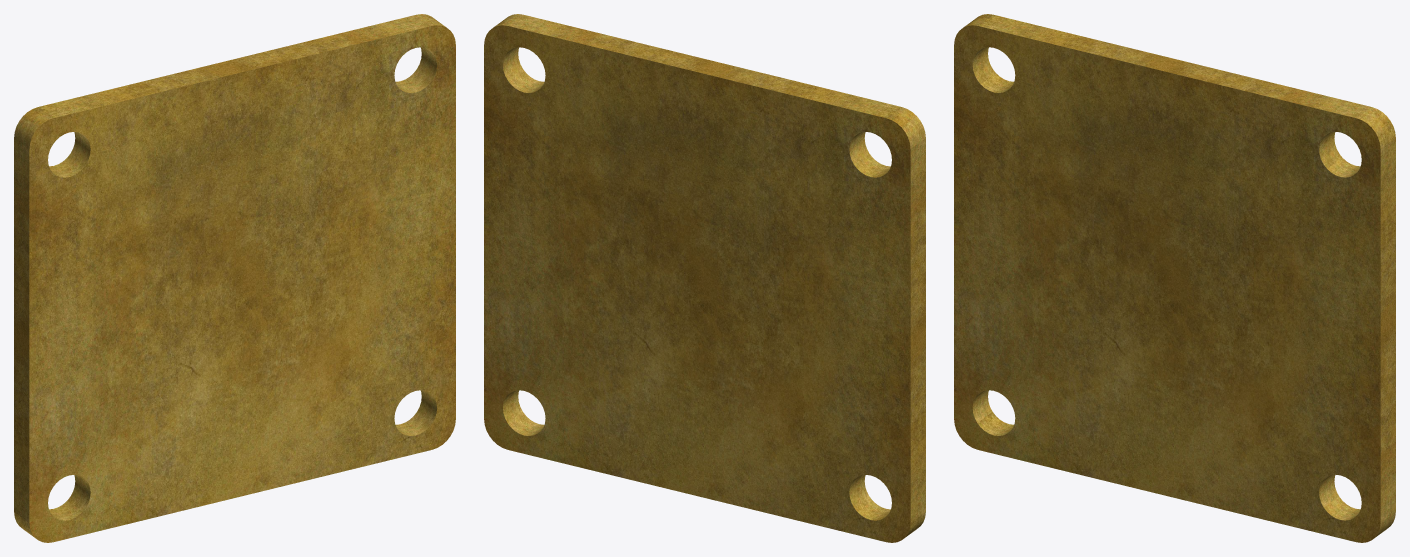
The model's file is 3CMLine ShortLoad.FBX.
3 views of the same model, side by side, from view 1: azimuth 30°, elevation 25°; view 2: azimuth 150°, elevation 25°; view 3: azimuth 330°, elevation 25° (orthographic).
Visible parts, largest first — view 1: 3CMLine ShortLoad; view 2: 3CMLine ShortLoad; view 3: 3CMLine ShortLoad.
Part boxes in pixels (box(x1,y1,x2,y2)): 3CMLine ShortLoad: box(14, 14, 455, 542); 3CMLine ShortLoad: box(484, 14, 925, 542); 3CMLine ShortLoad: box(954, 14, 1395, 542).
Bounding box in the file's own units: 80 × 76 × 5.
1 material, 1 textured.
